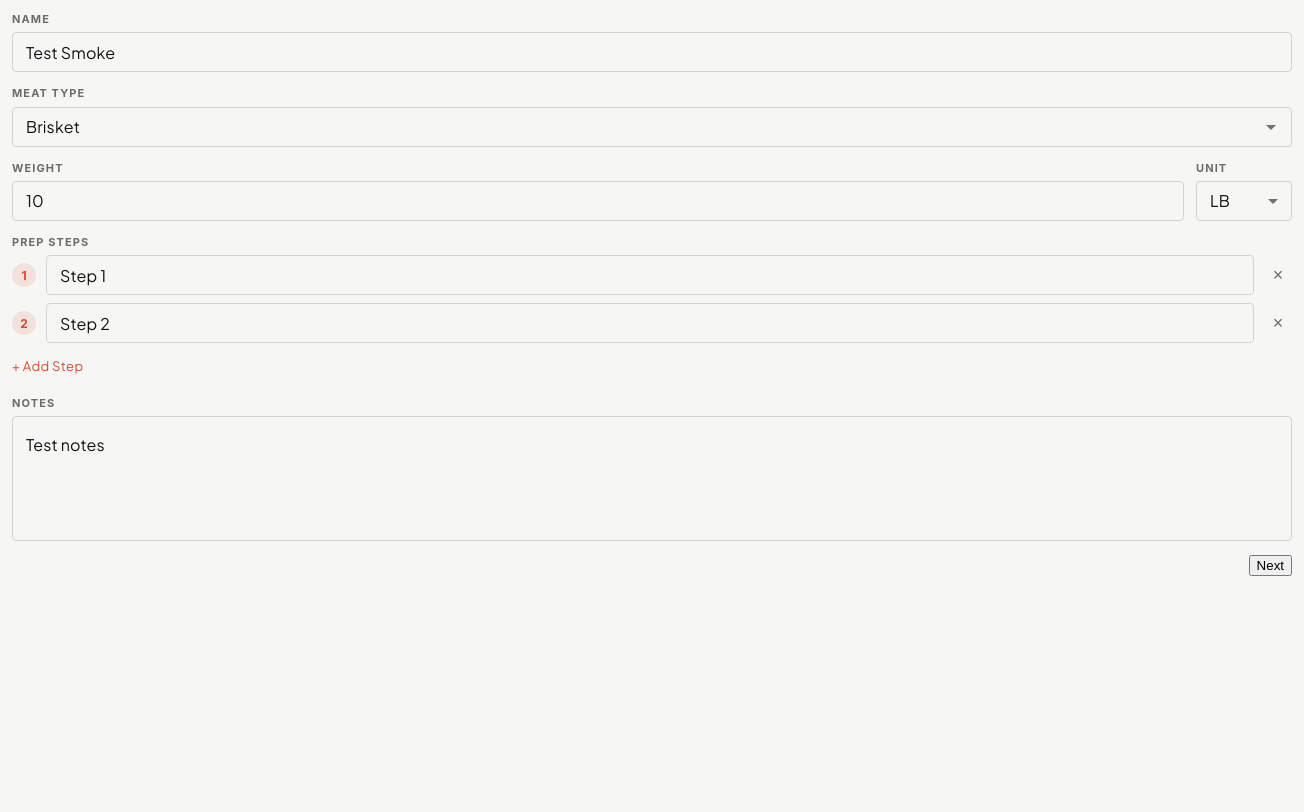
PreSmokeStep › persists a weight unit switched to KG, which is what most of the world weighs meat in
Expected: the field showing "Test Smoke" is shown, [12, 32, 1292, 72]
Press the mouse on the dropdown with test id "presmoke-weight-unit-select" at (1220, 201), box [1210, 190, 1230, 211]
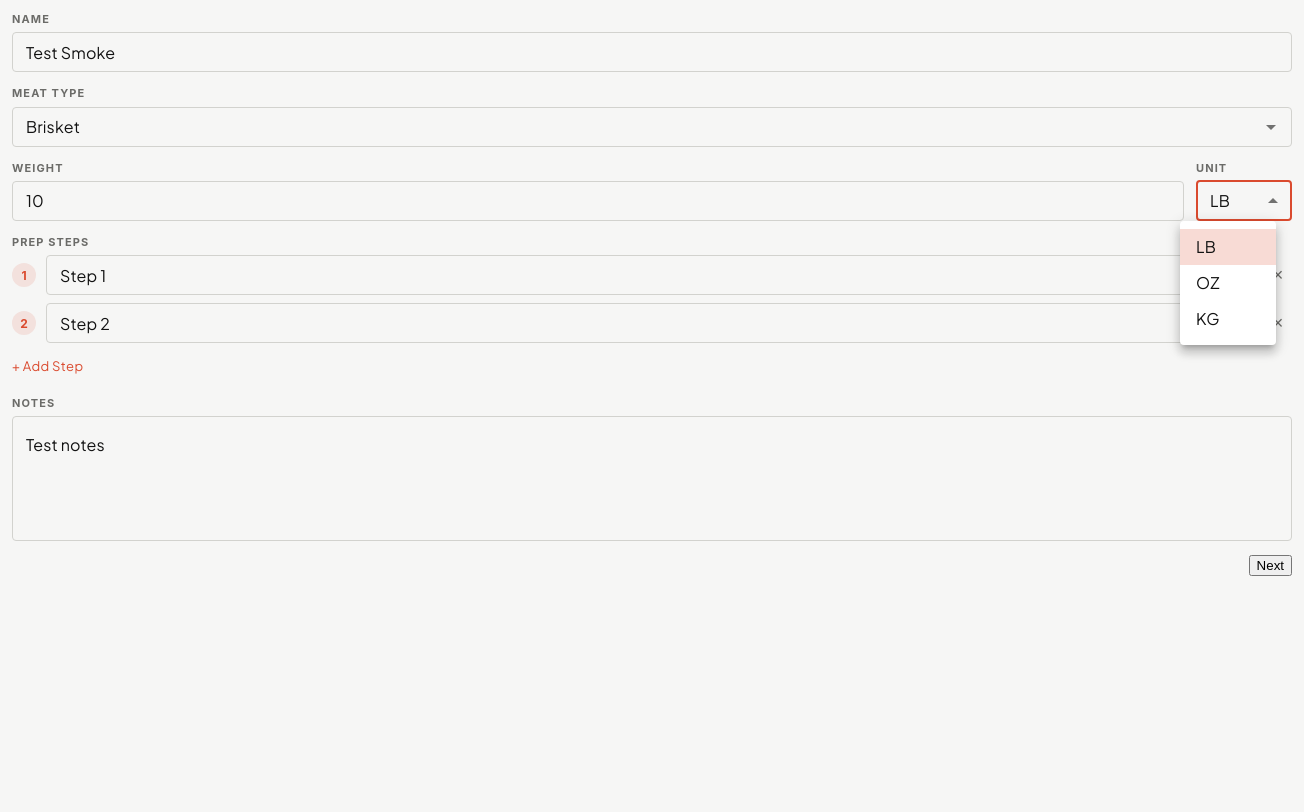
Click the option with test id "presmoke-weight-unit-option-KG" at (1208, 318), box [1196, 308, 1219, 329]
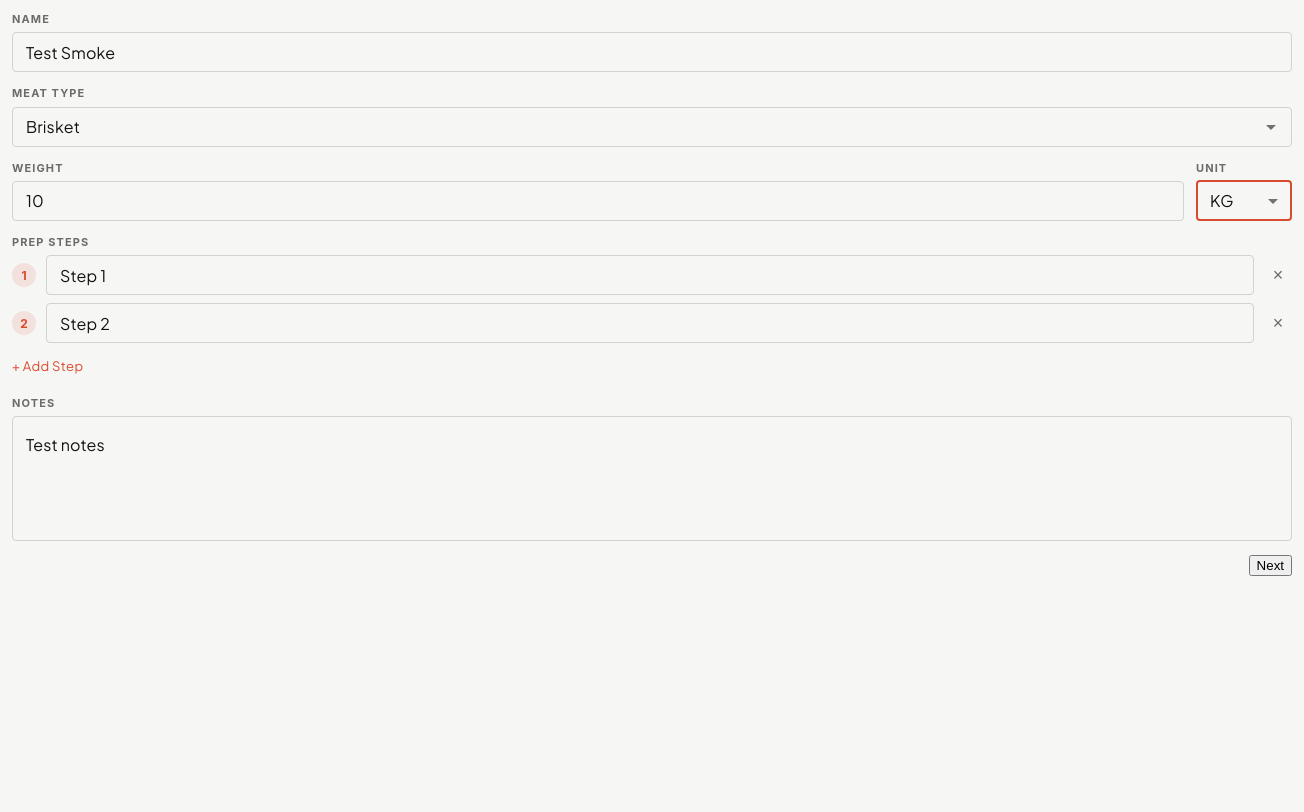
Expected: the dropdown with test id "presmoke-weight-unit-select" reads "KG", [1210, 190, 1233, 211]
